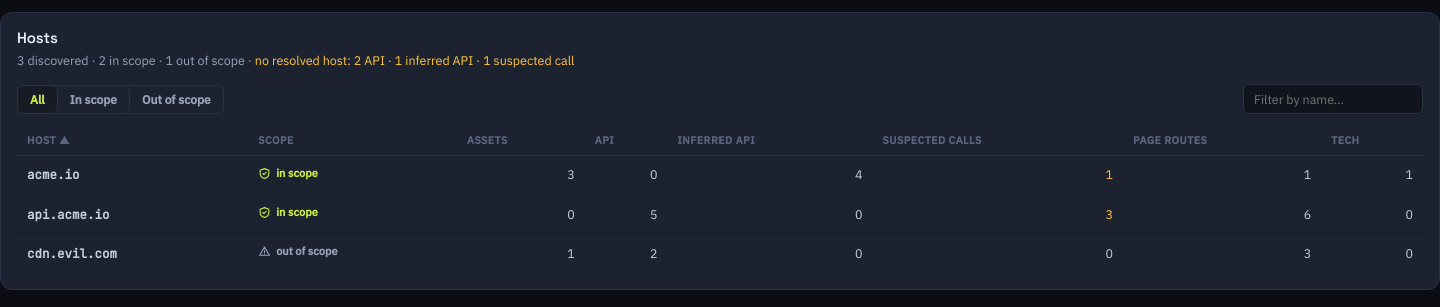
it: HostsPage › filters by name substring
Type "evil" into the search field named "filter hosts by name" at (1333, 99), box [1243,84,1423,114]
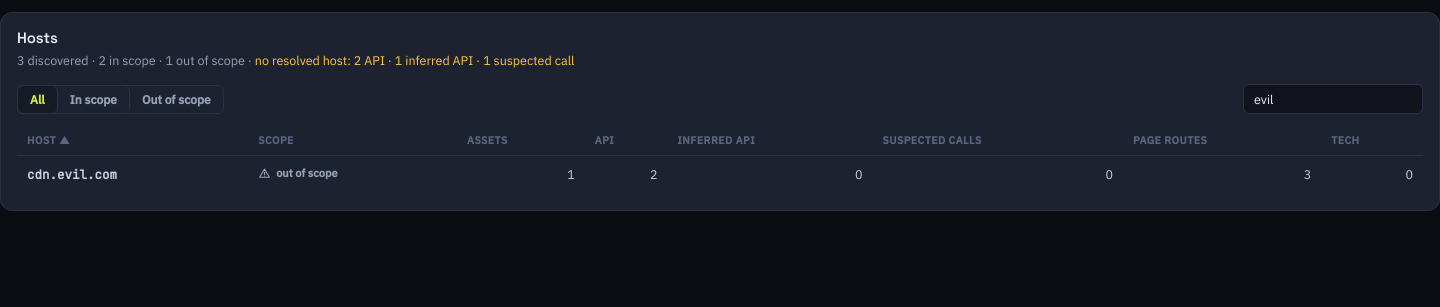
Check: the text "cdn.evil.com" is shown, box [27,166,117,183]
Check: the text "api.acme.io" is gone
